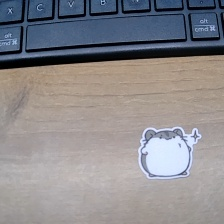mouse: (136, 125, 204, 182)
